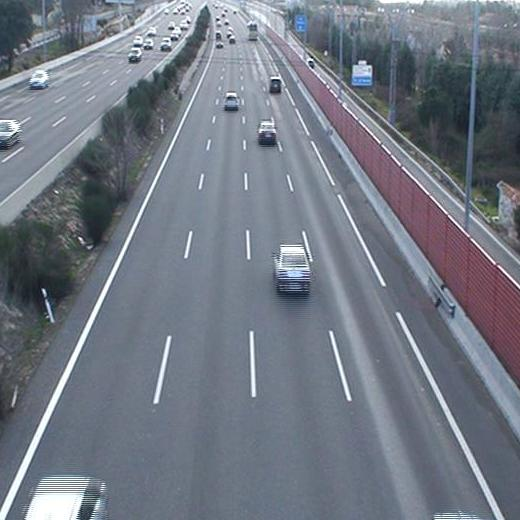bus: (247, 22, 260, 42)
car: (269, 245, 311, 294), (255, 120, 278, 145), (223, 92, 240, 112), (268, 77, 282, 94)
